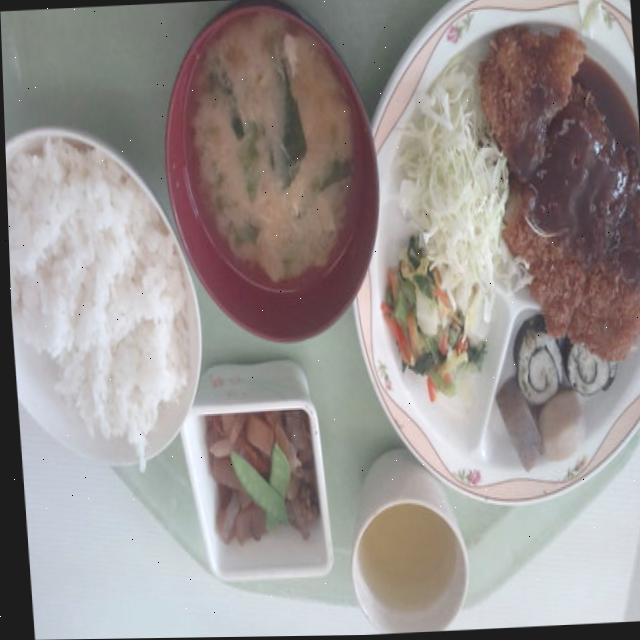汤锅炖物: (165, 0, 383, 357)
米饭主食: (4, 132, 196, 469)
蔬菜料理: (385, 56, 511, 341)
鸡肉料理 含炸鸡: (186, 396, 320, 564)
